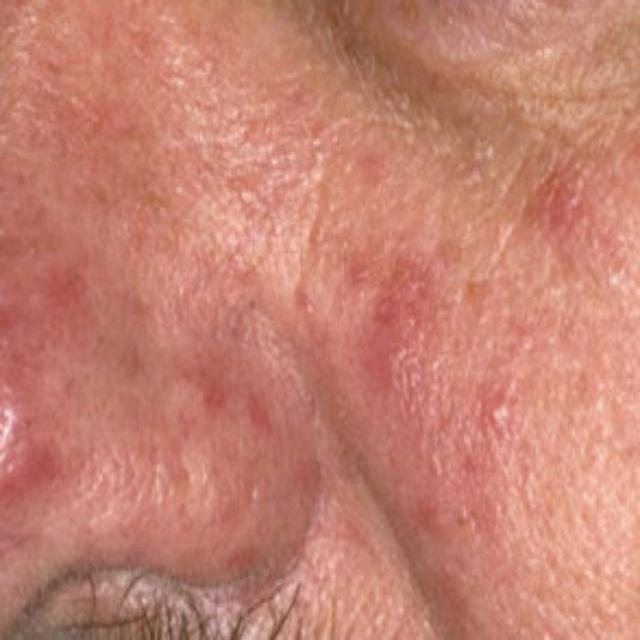Rosacea: (0, 162, 315, 606), (356, 132, 603, 565)
